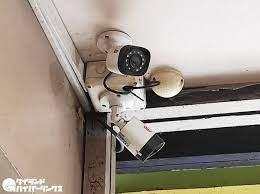tutu: (113, 116, 167, 165), (105, 42, 152, 81)
